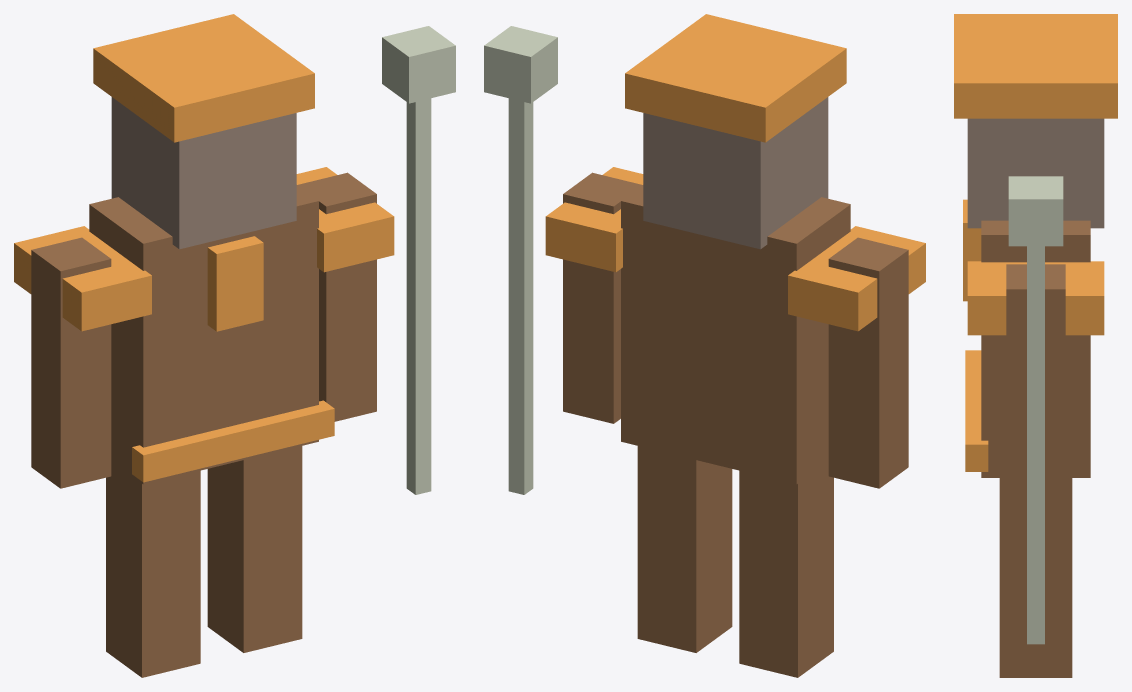
Rendered from 01_rook_nullborne_tamer_under_stanza.glb.
The picture shows the model from 3 angles, left to right: view 1: azimuth 30°, elevation 25°; view 2: azimuth 150°, elevation 25°; view 3: azimuth 270°, elevation 25°; orthographic projection.
Parts seen in each view (by area): view 1: Rook Nullborne, Tamer under Stanza; view 2: Rook Nullborne, Tamer under Stanza; view 3: Rook Nullborne, Tamer under Stanza.
Part boxes in pixels (x1=…): Rook Nullborne, Tamer under Stanza: x1=14, y1=14, x2=455, y2=677; Rook Nullborne, Tamer under Stanza: x1=484, y1=14, x2=925, y2=677; Rook Nullborne, Tamer under Stanza: x1=954, y1=14, x2=1117, y2=677.
Size of the model in its own units: 1.09 by 1.54 by 0.388.
